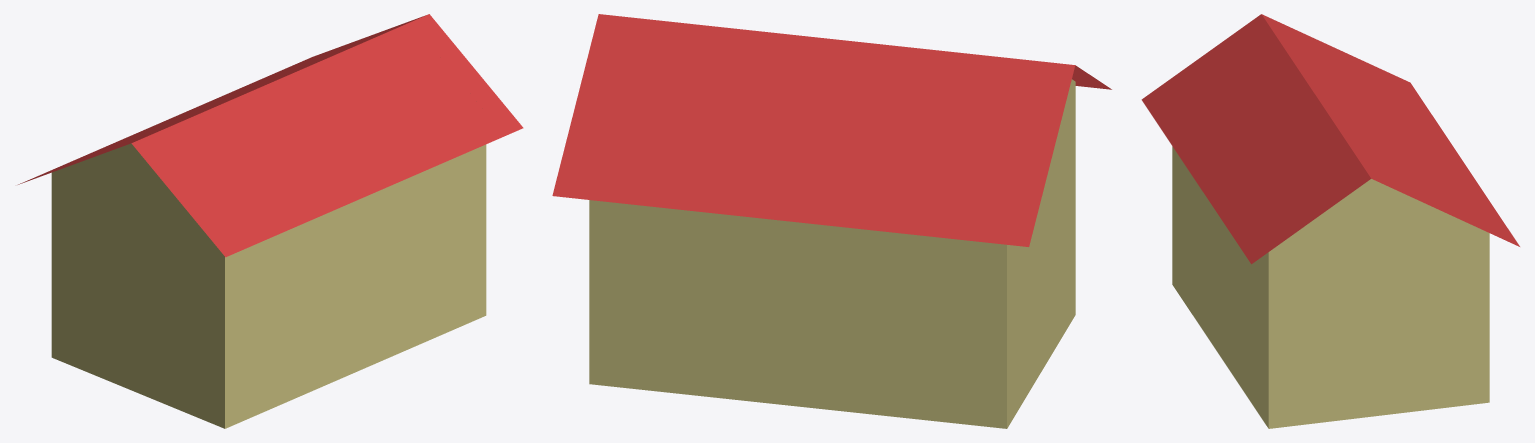
3 views of the same model, side by side, from view 1: azimuth 30°, elevation 25°; view 2: azimuth 150°, elevation 25°; view 3: azimuth 270°, elevation 25° (orthographic). The views are drawn at different scales.
Bounding box in the file's own units: 18.64 × 15.17 × 10.99.
